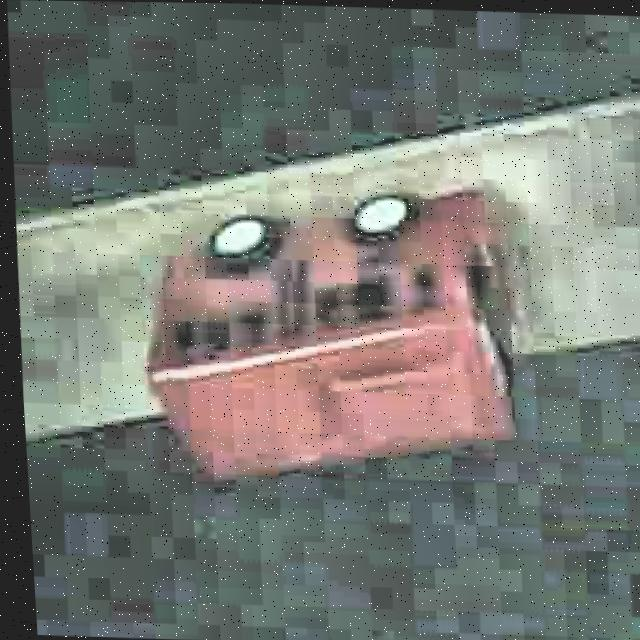bus: (131, 172, 528, 490)
